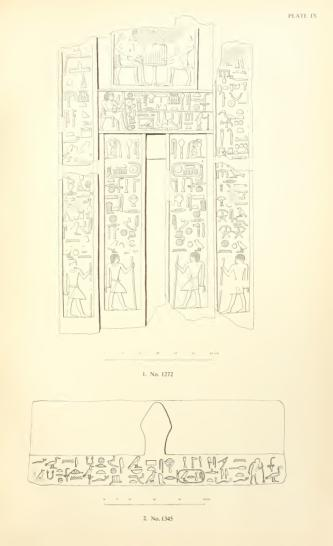circle: (174, 468, 206, 485)
